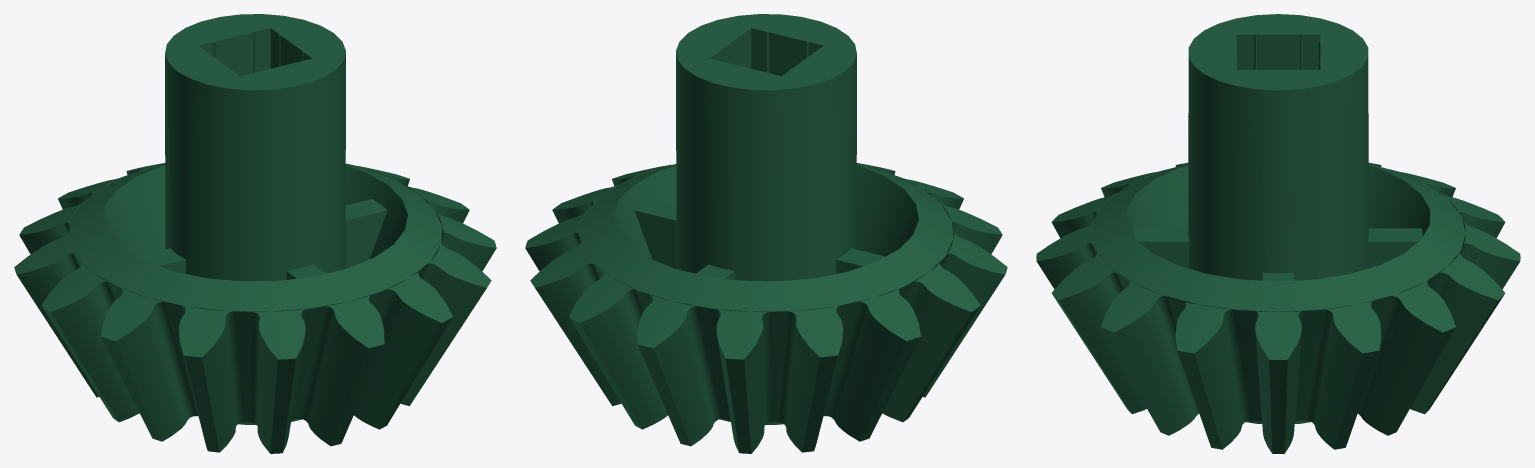
The model's file is 16t Bevel Gear (276-2045-051).glb.
3 renders of one model, left to right at view 1: azimuth 30°, elevation 25°; view 2: azimuth 150°, elevation 25°; view 3: azimuth 270°, elevation 25°, orthographic.
Visible parts, largest first — view 1: 276-2045-051 Rev1; view 2: 276-2045-051 Rev1; view 3: 276-2045-051 Rev1.
Part boxes in pixels (box(x1,y1,x2,y2)): 276-2045-051 Rev1: box(14, 14, 496, 453); 276-2045-051 Rev1: box(525, 14, 1007, 453); 276-2045-051 Rev1: box(1036, 14, 1520, 453).
Size of the model in its own units: 0.0187 by 0.0143 by 0.0187.
